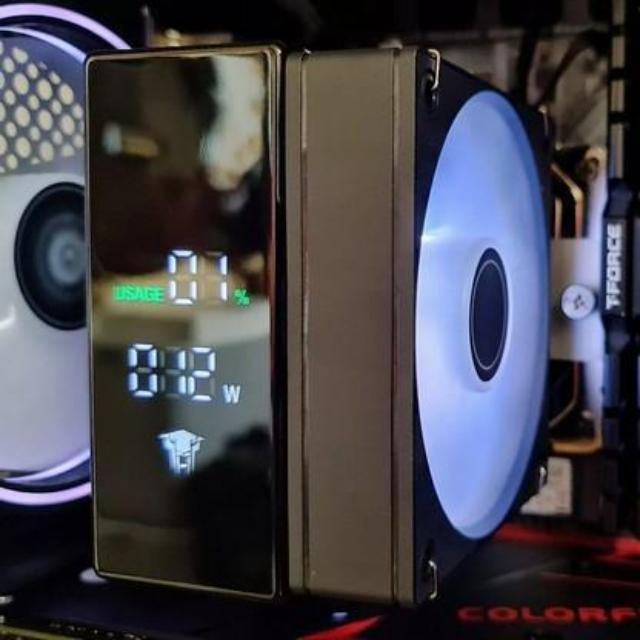CPU_Fan: (80, 34, 558, 614)
